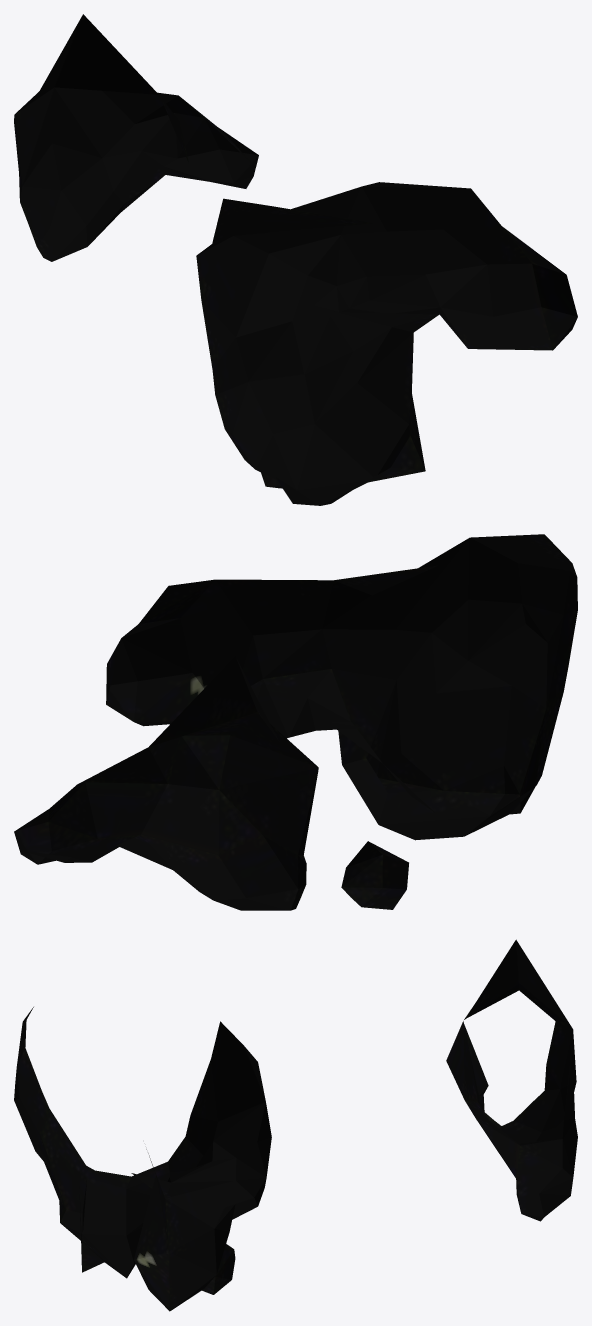
3 renders of one model, top to bottom at view 1: azimuth 30°, elevation 25°; view 2: azimuth 150°, elevation 25°; view 3: azimuth 270°, elevation 25°, orthographic. The views are drawn at different scales.
Bounding box in the file's own units: 1.33 × 1.31 × 2.
Materials: 1 (1 with a texture image).
